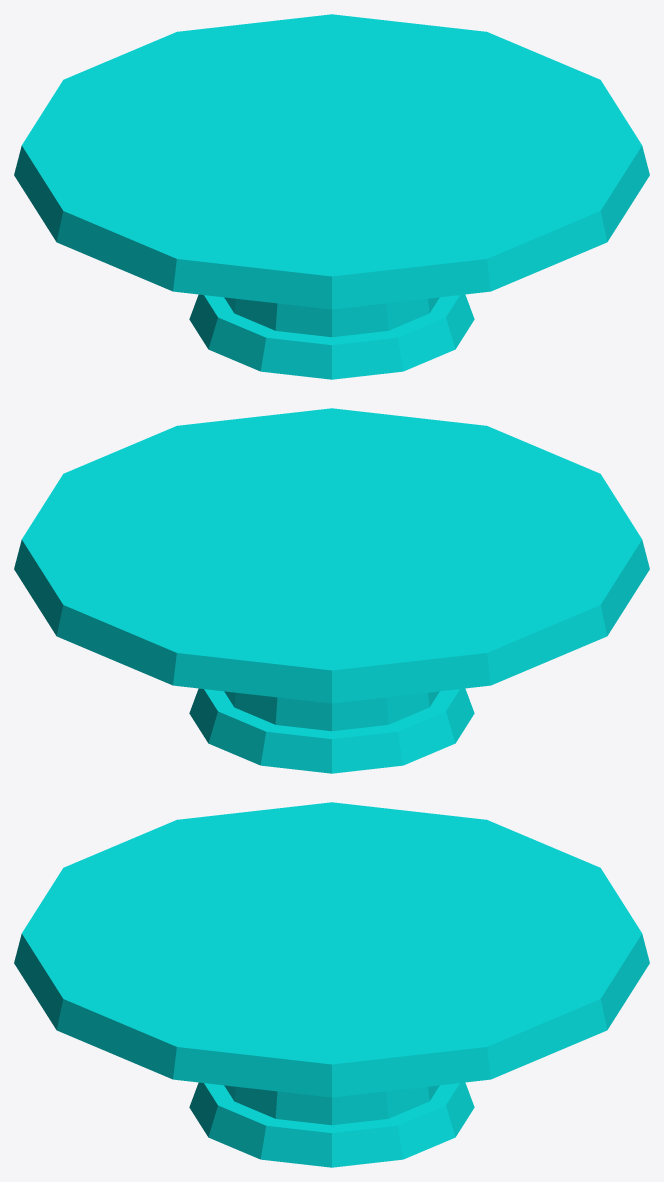
File: SM_Prop_Table_01_Collision.fbx
3 views of the same model, one above another, from view 1: azimuth 30°, elevation 25°; view 2: azimuth 150°, elevation 25°; view 3: azimuth 270°, elevation 25° (orthographic).
Visible parts, largest first — view 1: SM_Prop_Table_01_Collision; view 2: SM_Prop_Table_01_Collision; view 3: SM_Prop_Table_01_Collision.
Part boxes in pixels (<box>): SM_Prop_Table_01_Collision: <box>14,14,649,379</box>; SM_Prop_Table_01_Collision: <box>14,408,649,773</box>; SM_Prop_Table_01_Collision: <box>14,802,649,1167</box>.
Bounding box in the file's own units: 258 × 77.98 × 258.
